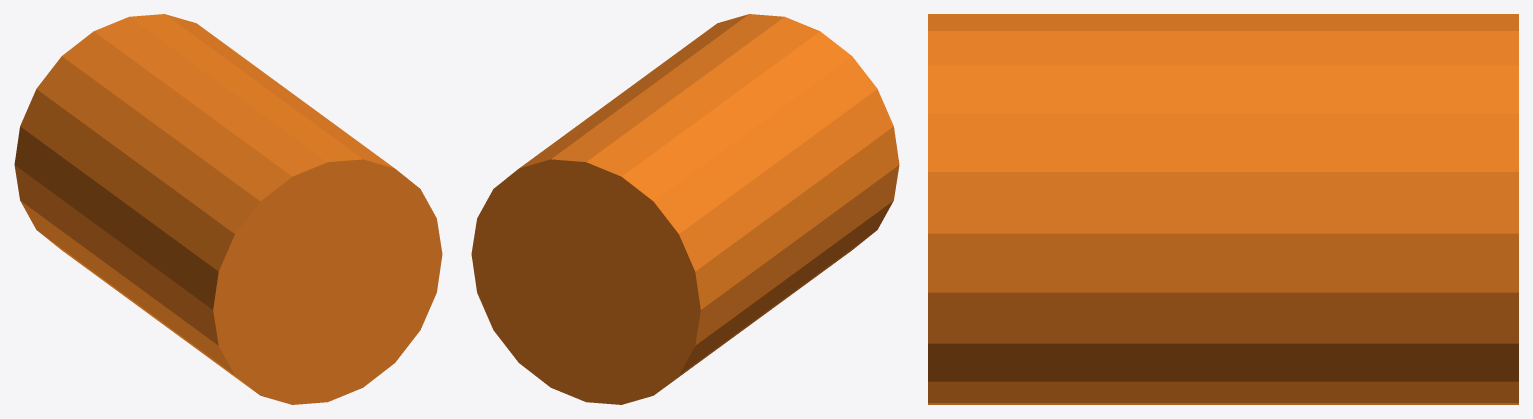
3 renders of one model, left to right at view 1: azimuth 30°, elevation 25°; view 2: azimuth 150°, elevation 25°; view 3: azimuth 270°, elevation 25°, orthographic. The views are drawn at different scales.
Visible parts, largest first — view 1: group_16089887; view 2: group_16089887; view 3: group_16089887.
Boxes of the visible parts, x1,y1,x2,y2 form: group_16089887: (14,14,442,404); group_16089887: (471,14,899,404); group_16089887: (928,14,1518,404).
Bounding box in the file's own units: 50 × 50 × 75.
